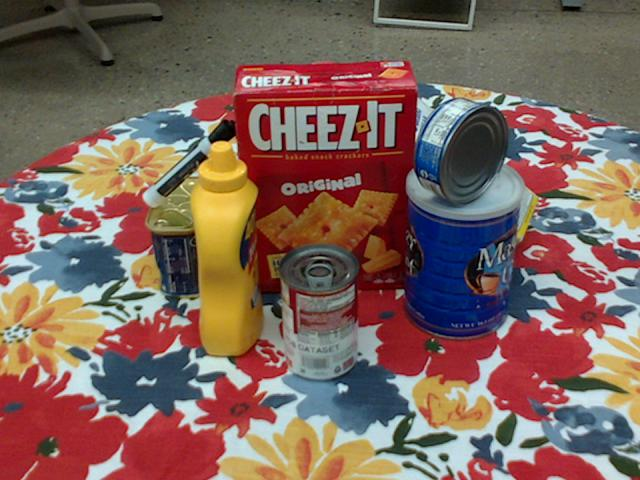cracker_box: (234, 61, 419, 292)
gelatin_box: (176, 155, 262, 240)
large_marker: (143, 118, 238, 206)
master_chef_can: (405, 155, 522, 342)
mug: (329, 123, 414, 222)
mustard_bottle: (189, 141, 262, 357)
potted_meat_can: (145, 176, 217, 299)
sugar_box: (371, 97, 541, 262)
tomato_soup_can: (277, 243, 358, 381)
tuna_fish_can: (415, 97, 509, 204)
